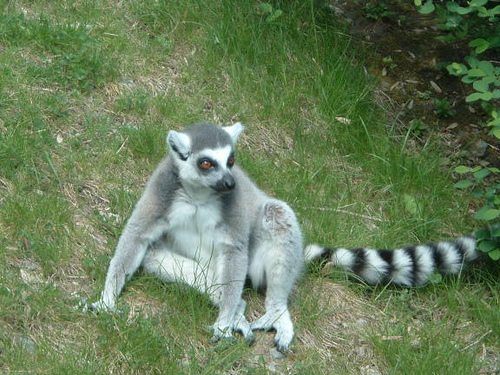cat: (88, 120, 477, 356)
